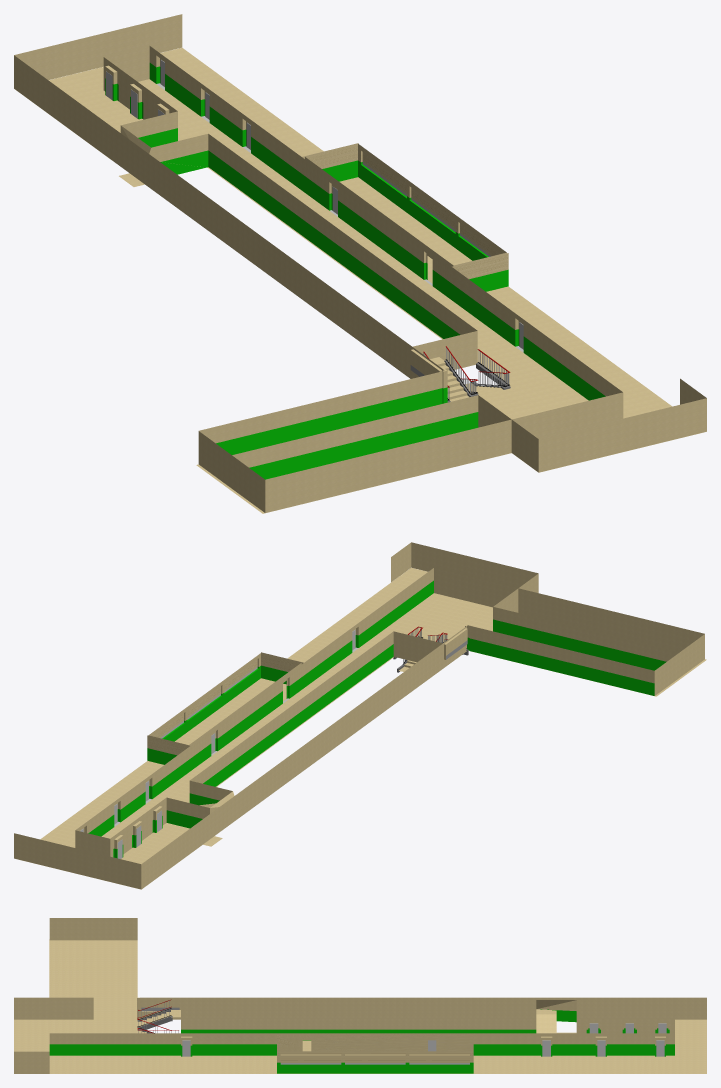
Rendered from pietro3.obj.
The picture shows the model from 3 angles, top to bottom: view 1: azimuth 30°, elevation 25°; view 2: azimuth 150°, elevation 25°; view 3: azimuth 270°, elevation 25°; orthographic projection. The views are drawn at different scales.
Parts seen in each view (by area): view 1: pietro.007_Cube.016; view 2: pietro.007_Cube.016; view 3: pietro.007_Cube.016.
Part boxes in pixels (x1,y1,x2,y2): pietro.007_Cube.016: [14, 14, 706, 513]; pietro.007_Cube.016: [14, 542, 706, 889]; pietro.007_Cube.016: [14, 918, 706, 1073].
Size of the model in its own units: 39.27 by 4.84 by 85.35.
